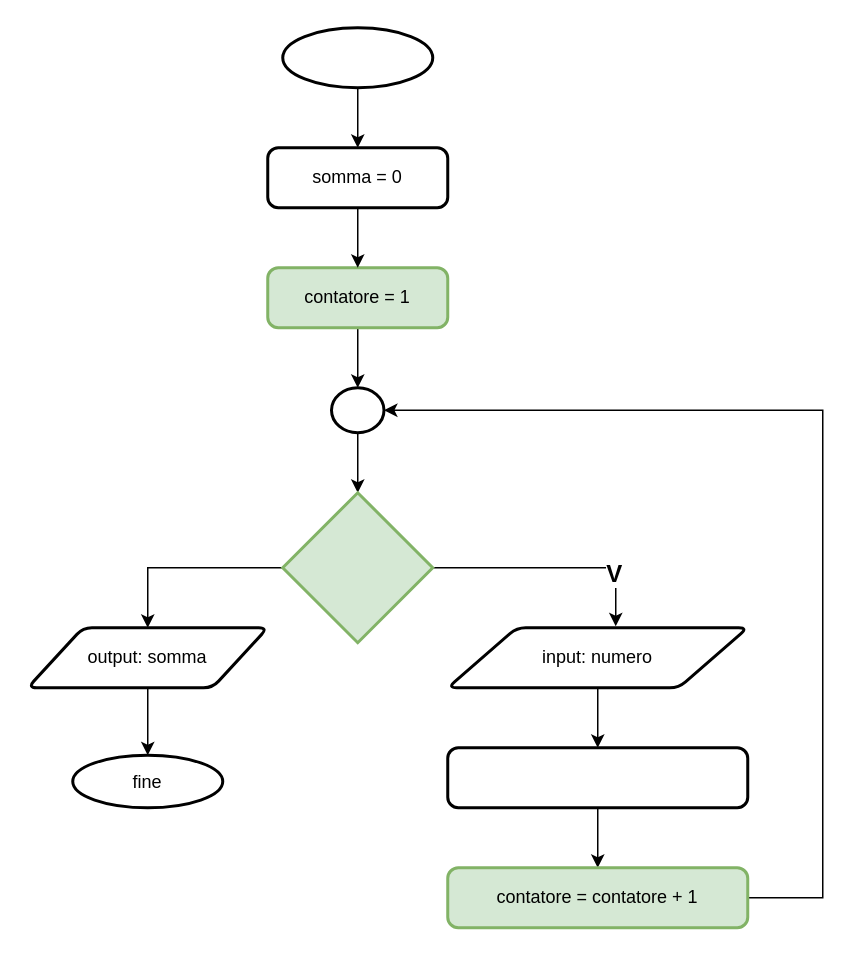
Image size: 861x954. Some labels were removed from this diagram. The shapes that lost their labels are listed below. From the top down, each one's centre as x and y in pixels, then its label:
At [357,57]: "inizio".
At [357,567]: "contatore <= 10".
At [597,777]: "somma = somma + numero".
